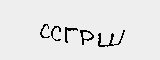Г: (64, 25, 78, 44)
Р: (80, 27, 95, 46)
С: (34, 22, 50, 41), (52, 24, 62, 42)
Ш: (97, 28, 125, 47)
